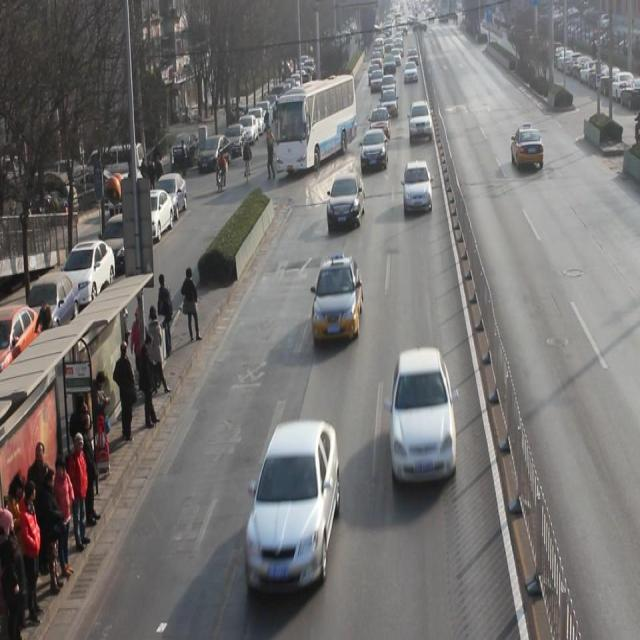car: (246, 418, 340, 598), (390, 351, 458, 487), (313, 257, 363, 343), (326, 174, 366, 235), (402, 162, 432, 216), (511, 128, 544, 172), (360, 130, 389, 176), (408, 102, 432, 146), (368, 108, 391, 143), (379, 90, 399, 121)
van: (276, 72, 357, 174)
